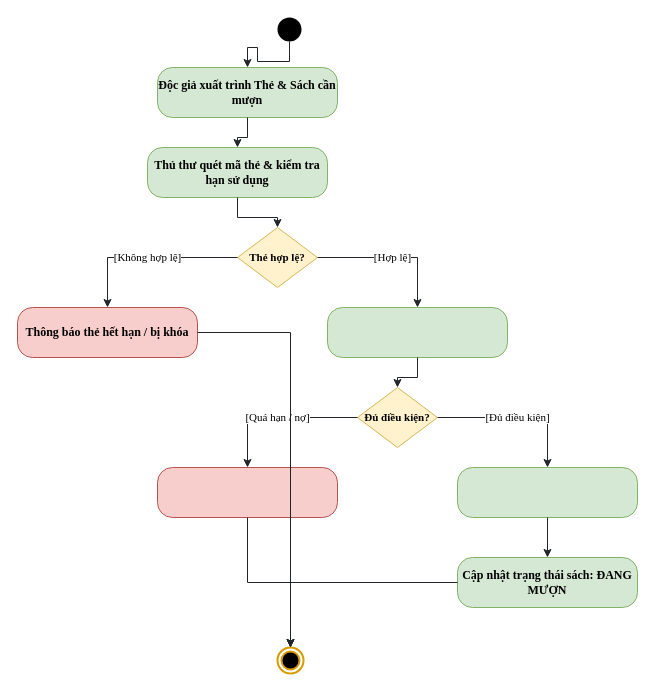
Image size: 655x691. Some labels were removed from this diagram. The shapes that lost their labels are listed below. From the top down, each one's centre as x and y in pixels, then its label:
At (x=417, y=332): "Kiểm tra số lượng sách đang mượn & nợ phạt".
At (x=247, y=492): "Từ chối mượn & yêu cầu trả sách cũ / nộp phạt".
At (x=547, y=492): "Lập Phiếu Mượn & Ghi nhận hạn trả (14 ngày)".
